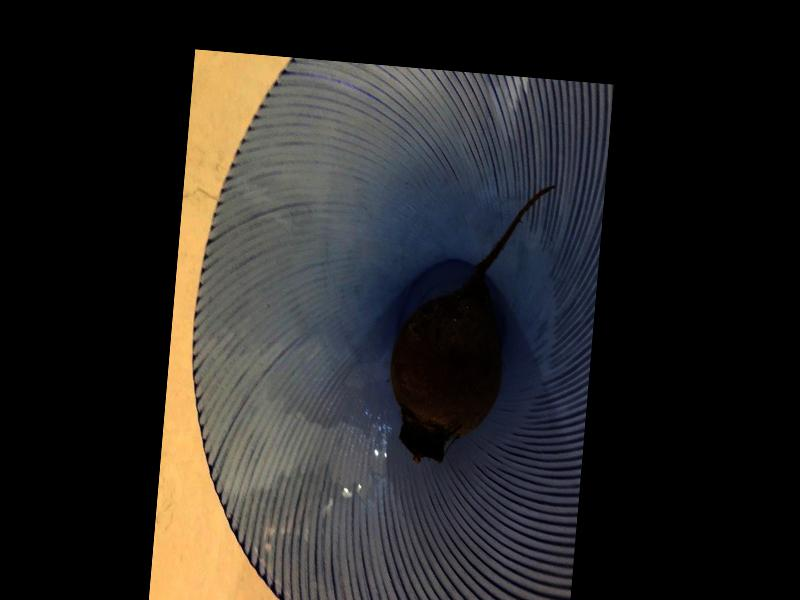Beet: (385, 173, 554, 469)
